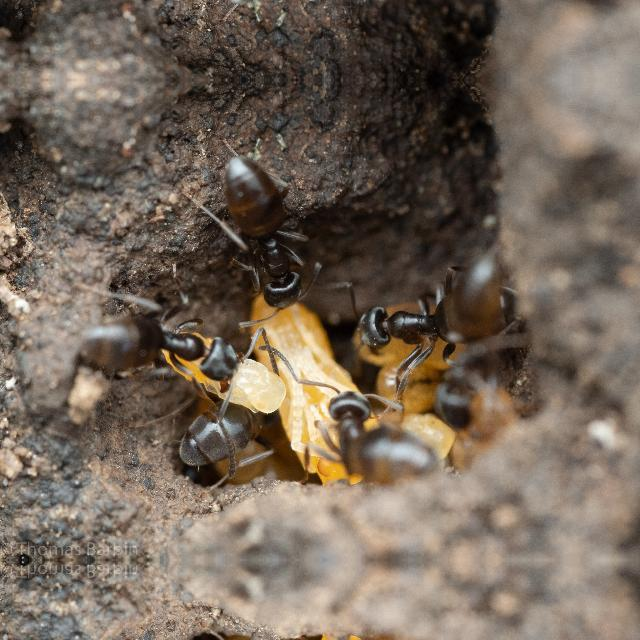Tapinoma: (196, 148, 332, 322), (58, 299, 260, 395), (339, 270, 536, 368), (301, 367, 453, 491), (176, 371, 284, 485)
